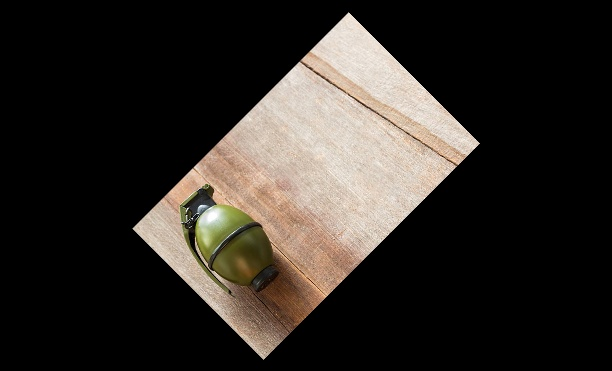e1: (175, 179, 285, 297)
